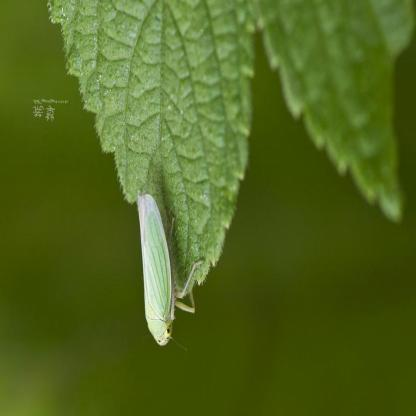green-leafhopper: (136, 189, 204, 348)
